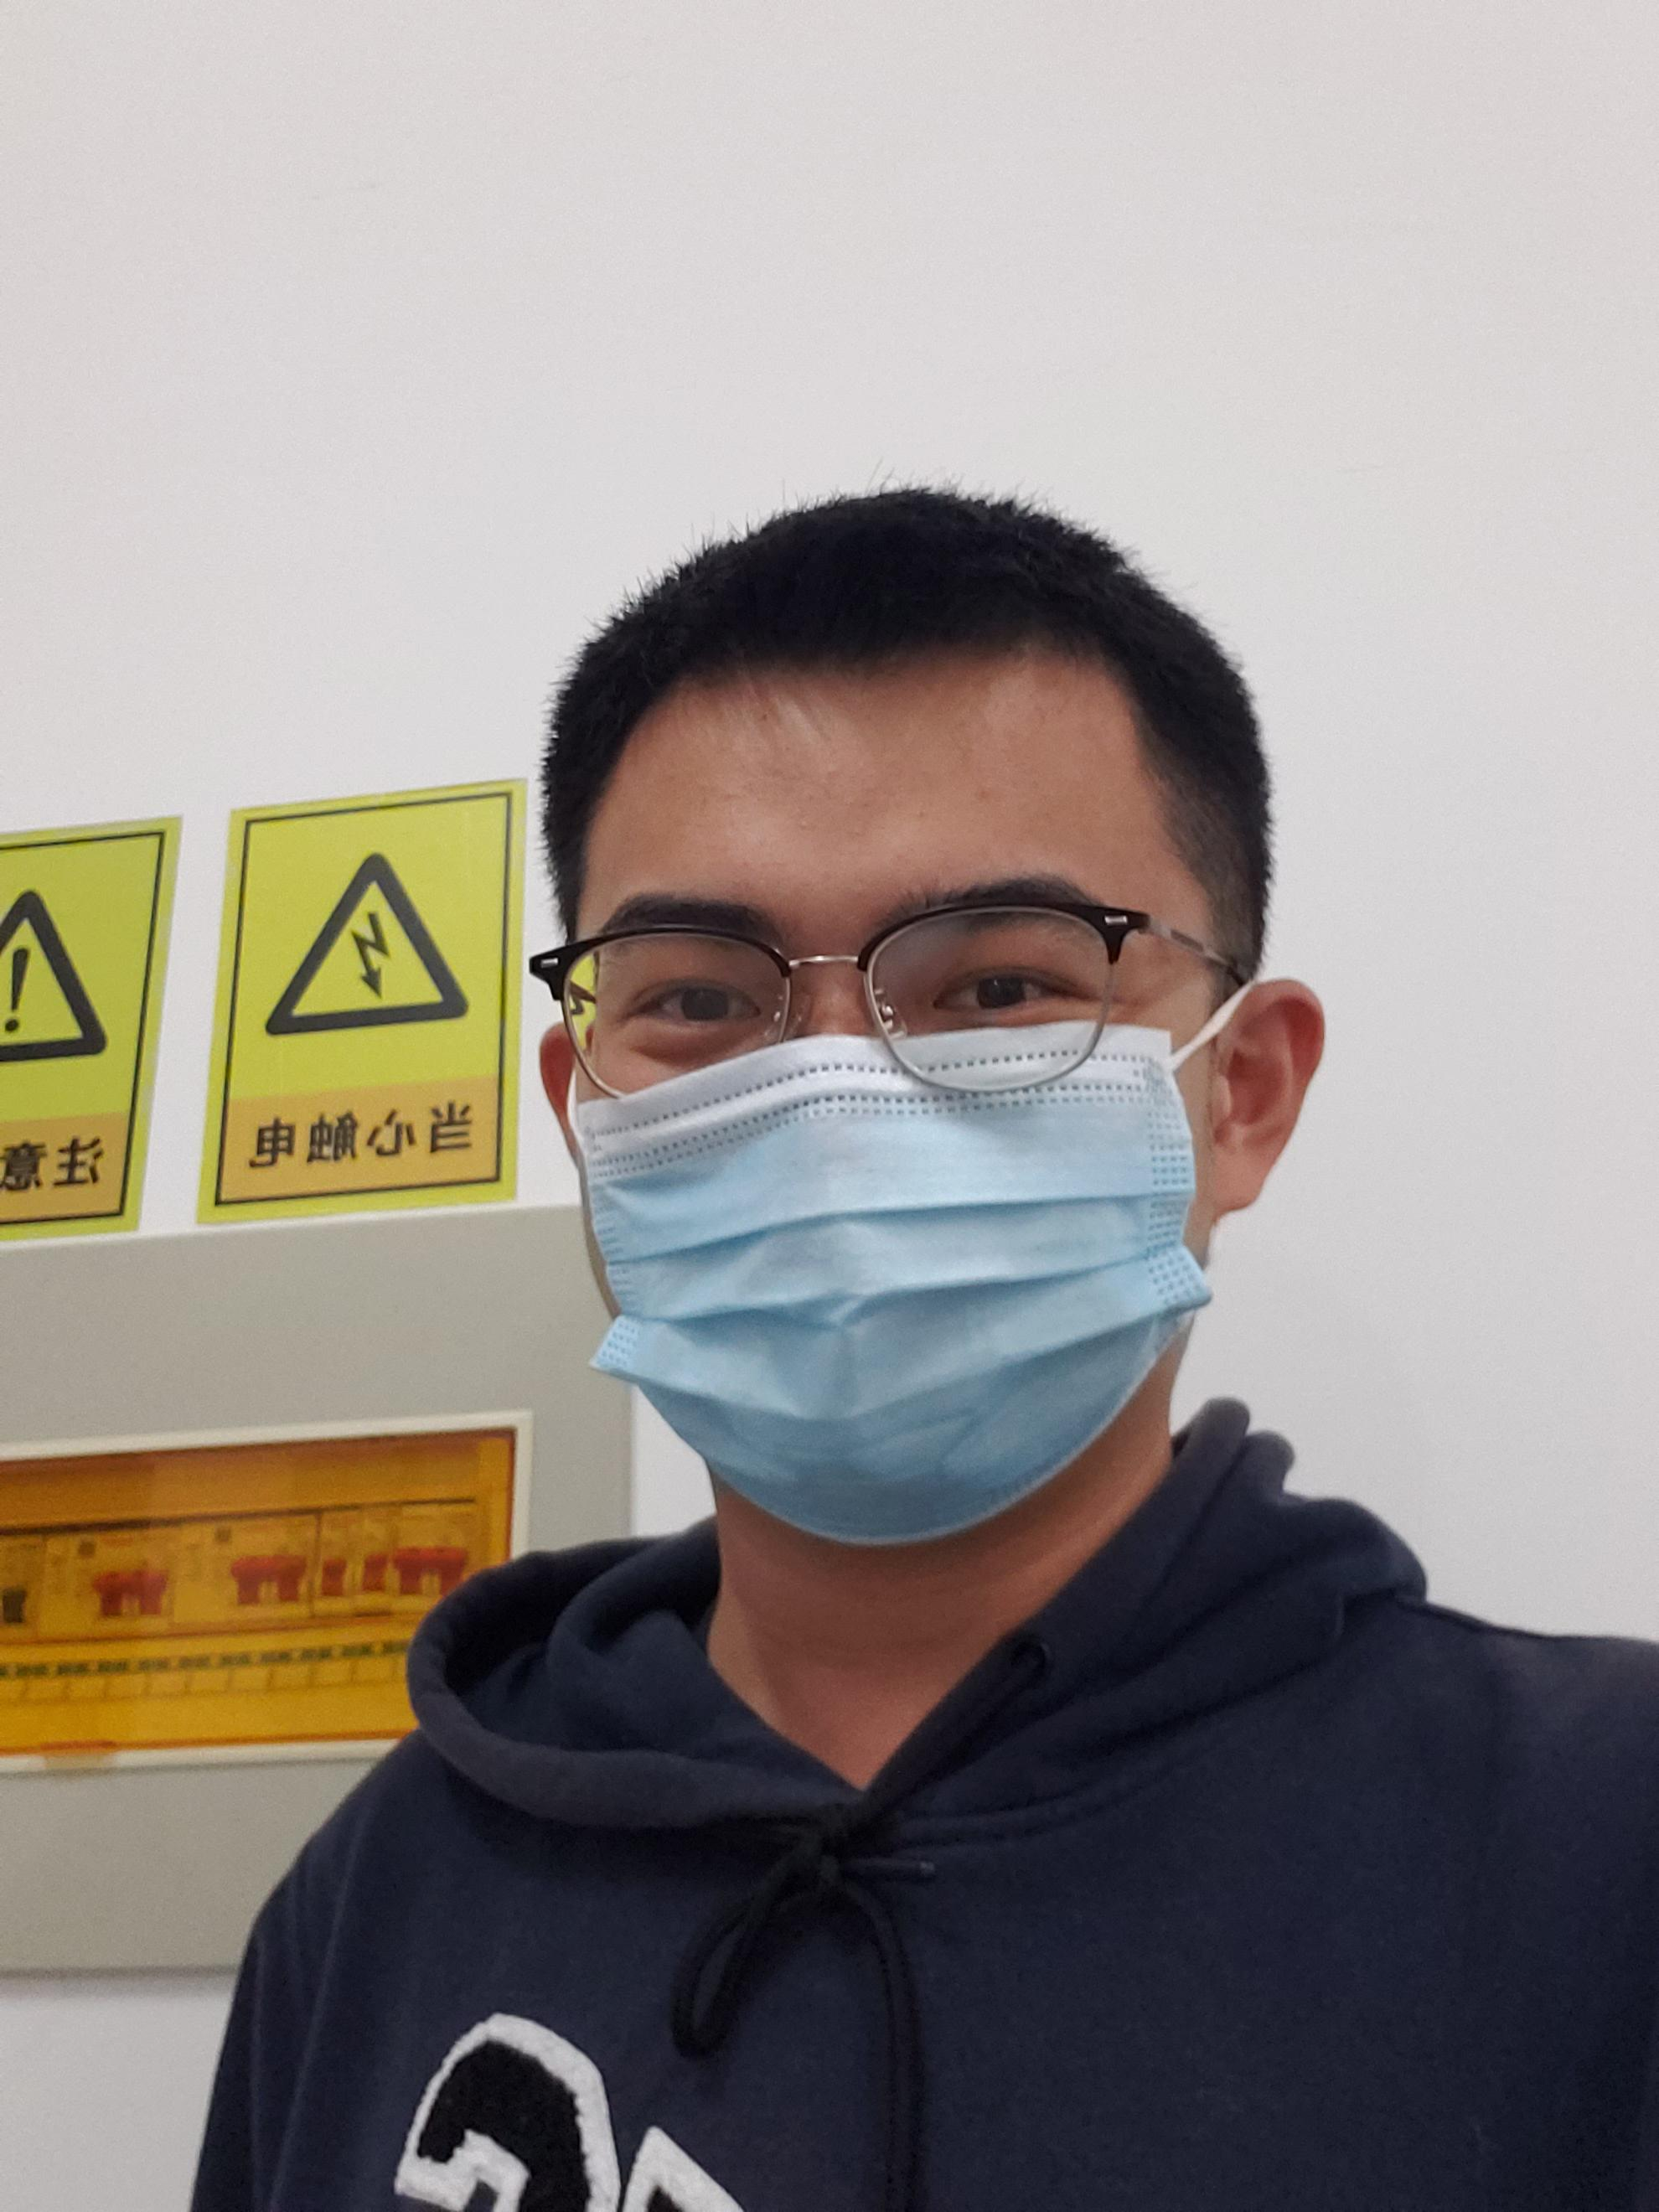Mask: (530, 1012, 1213, 1536)
